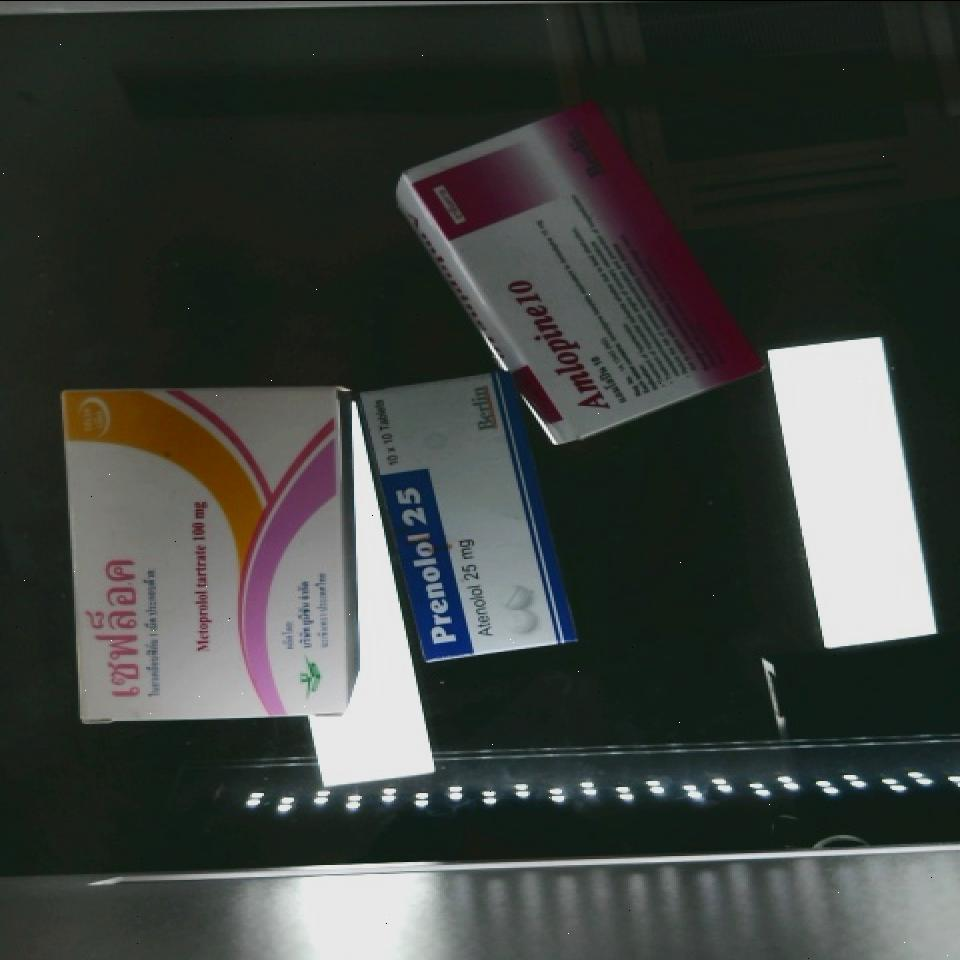medicine_box: (398, 61, 763, 469), (55, 387, 341, 725), (351, 351, 580, 681)
medicine_label_obb: (476, 252, 635, 446), (378, 468, 473, 664), (75, 550, 156, 720)
